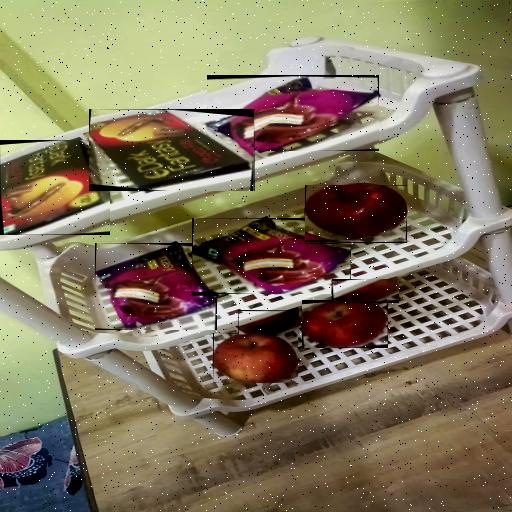Apple: (305, 186, 407, 244), (213, 333, 298, 383), (302, 300, 388, 348), (332, 279, 399, 303), (238, 310, 299, 334)
Choco Fills: (90, 109, 256, 191), (0, 140, 110, 235)
Choco Pie: (207, 75, 379, 151), (192, 218, 351, 294), (95, 243, 217, 330)
